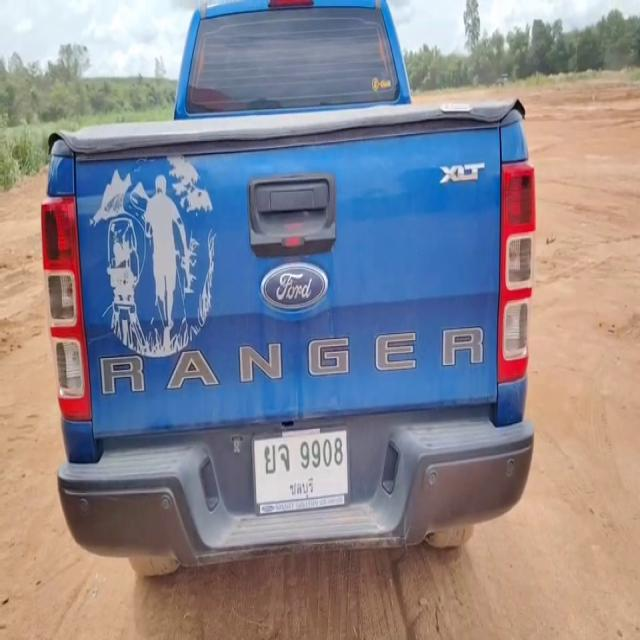Digit: (298, 437, 344, 474)
Licenseplate: (250, 429, 352, 509)
Provincename: (288, 478, 317, 500)
Thaichar: (263, 442, 291, 476)
